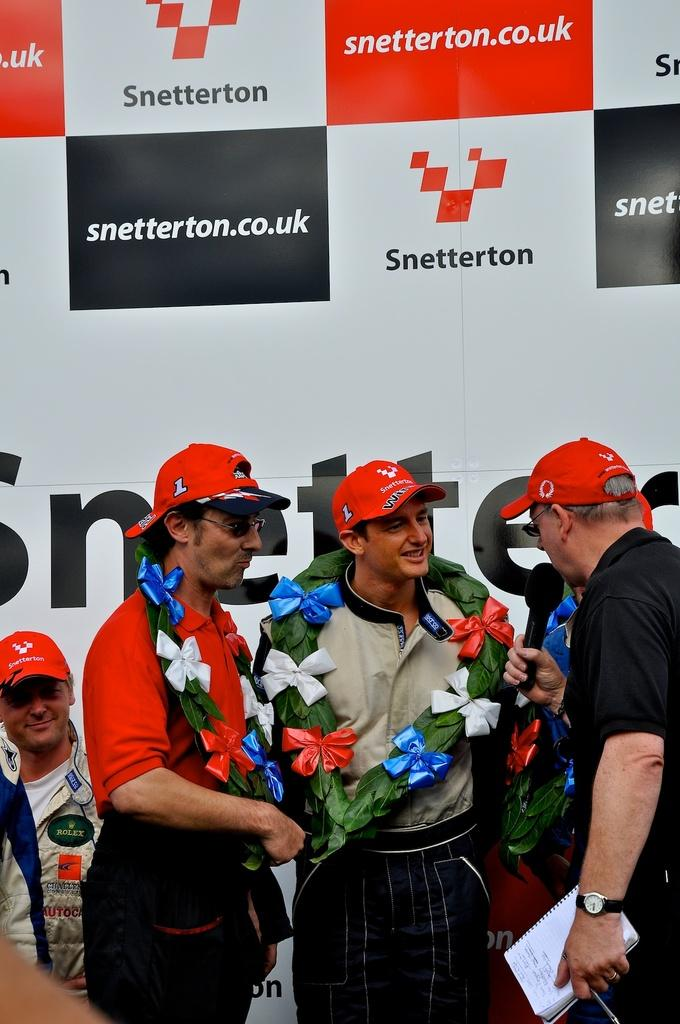Hat: (119, 442, 262, 546), (499, 434, 641, 520), (331, 456, 446, 538), (0, 628, 71, 690)
